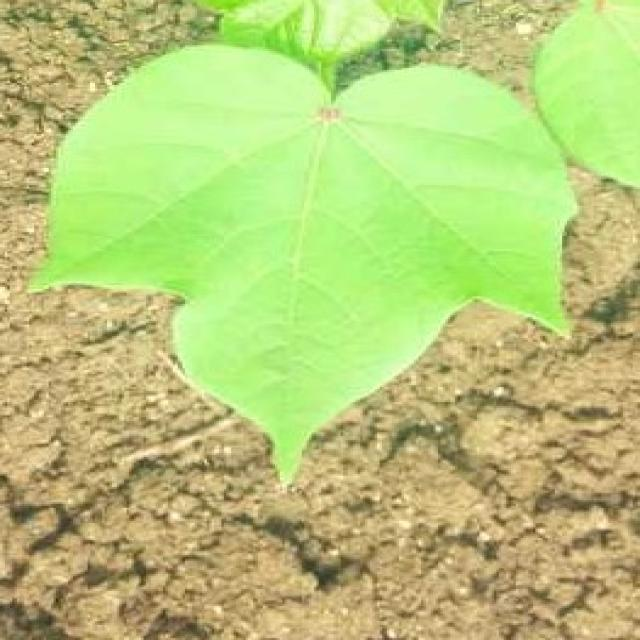Healthy Leaf: (113, 102, 610, 274)
